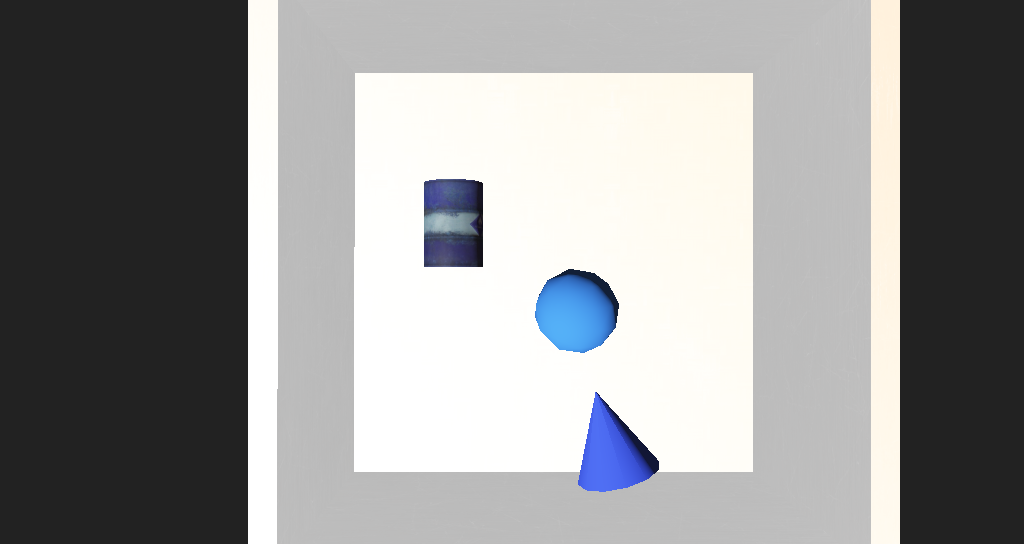cone: (408, 222, 455, 265)
cylinder: (509, 327, 583, 389)
sphere: (485, 270, 552, 313)
